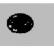correct: (1, 10, 37, 38)
